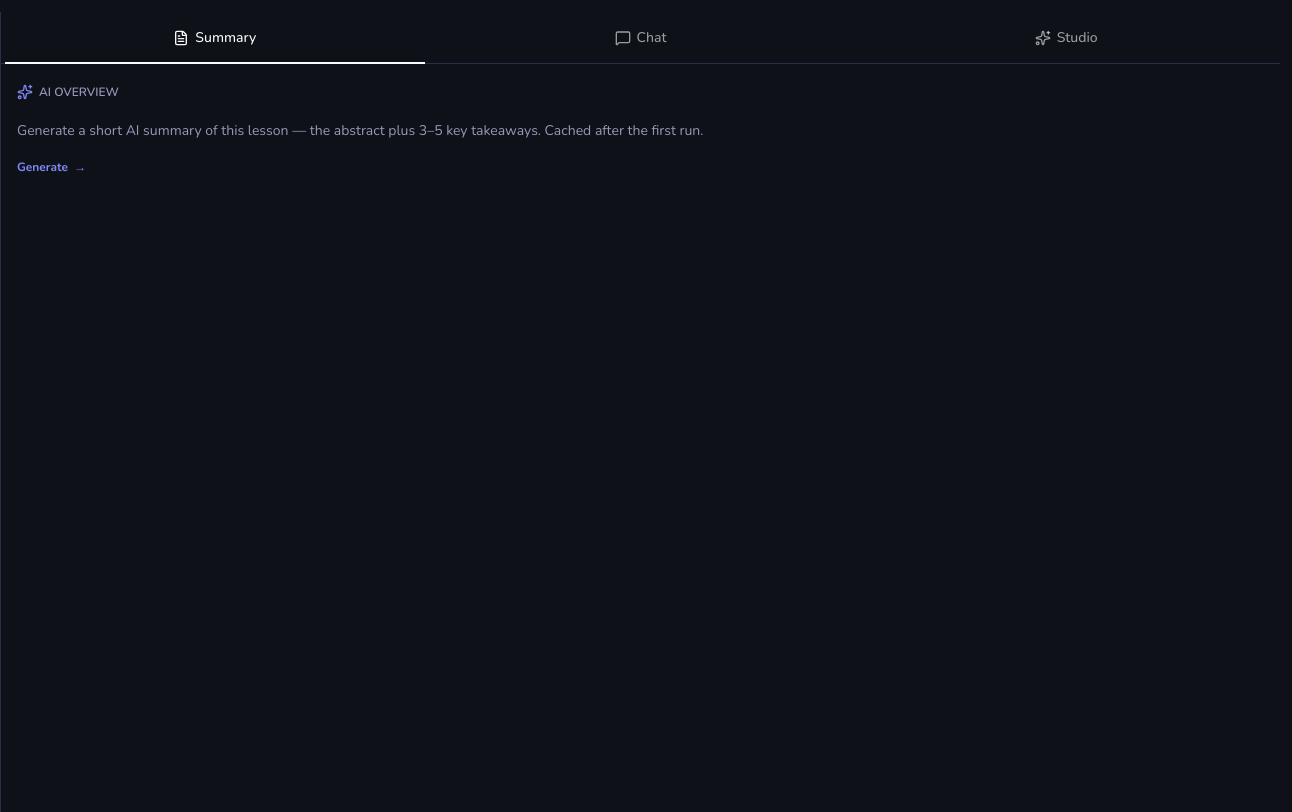
utilityPane › clicking Studio tab shows the tile grid (not the coming-soon placeholder)
Click the tab "Studio".
click(1066, 38)  # box [855,16,1277,60]
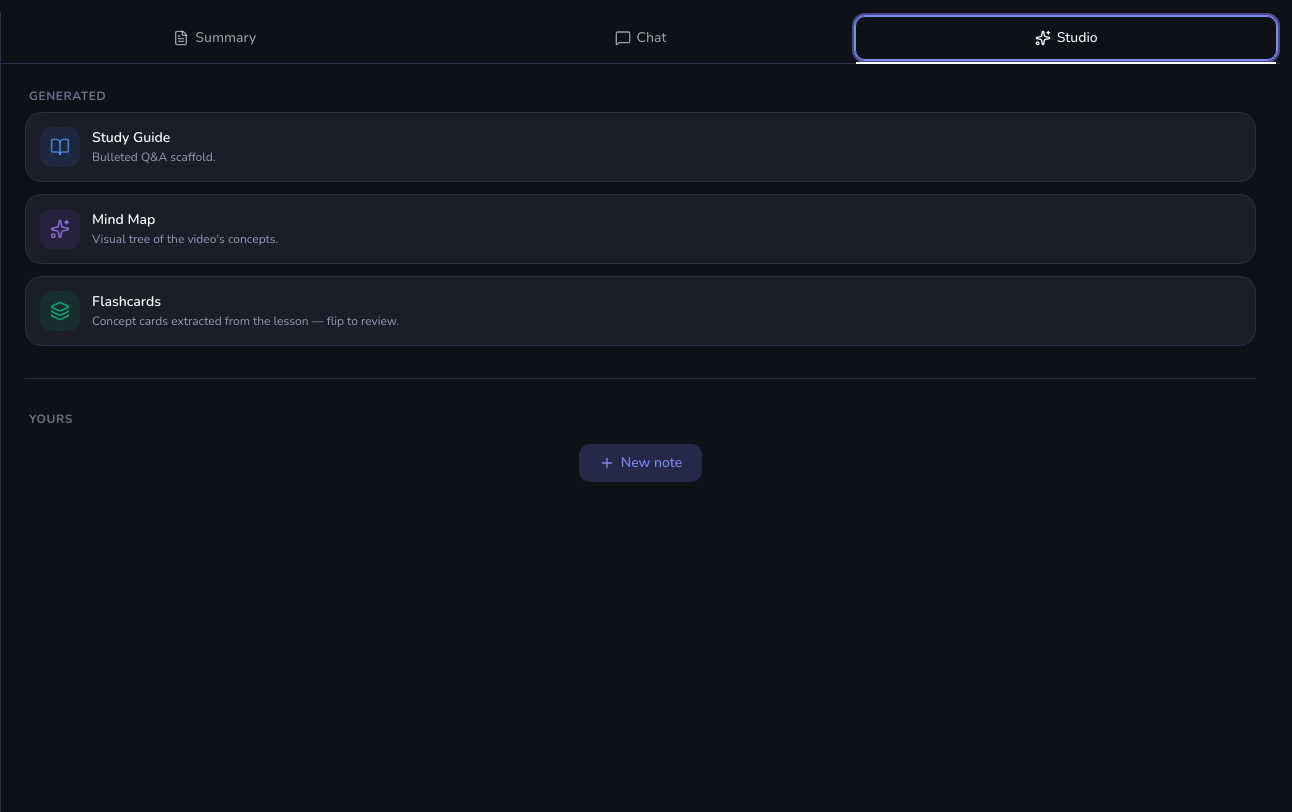
Expected: the heading "Study Guide" is shown, [92,129,170,146]
